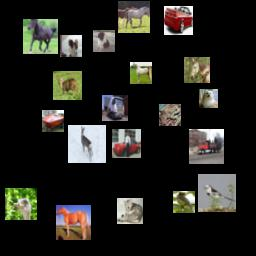automobile: (164, 6, 193, 35), (112, 129, 141, 158)
bird: (198, 174, 236, 212), (5, 188, 37, 220), (173, 191, 195, 213)
cat: (117, 198, 143, 224)
deer: (68, 125, 106, 163), (53, 71, 82, 100)
dog: (60, 35, 82, 57), (93, 30, 115, 52), (199, 89, 218, 108)
frog: (159, 104, 181, 126)
ship: (42, 110, 64, 132)
truck: (189, 129, 224, 164), (102, 95, 128, 121)
